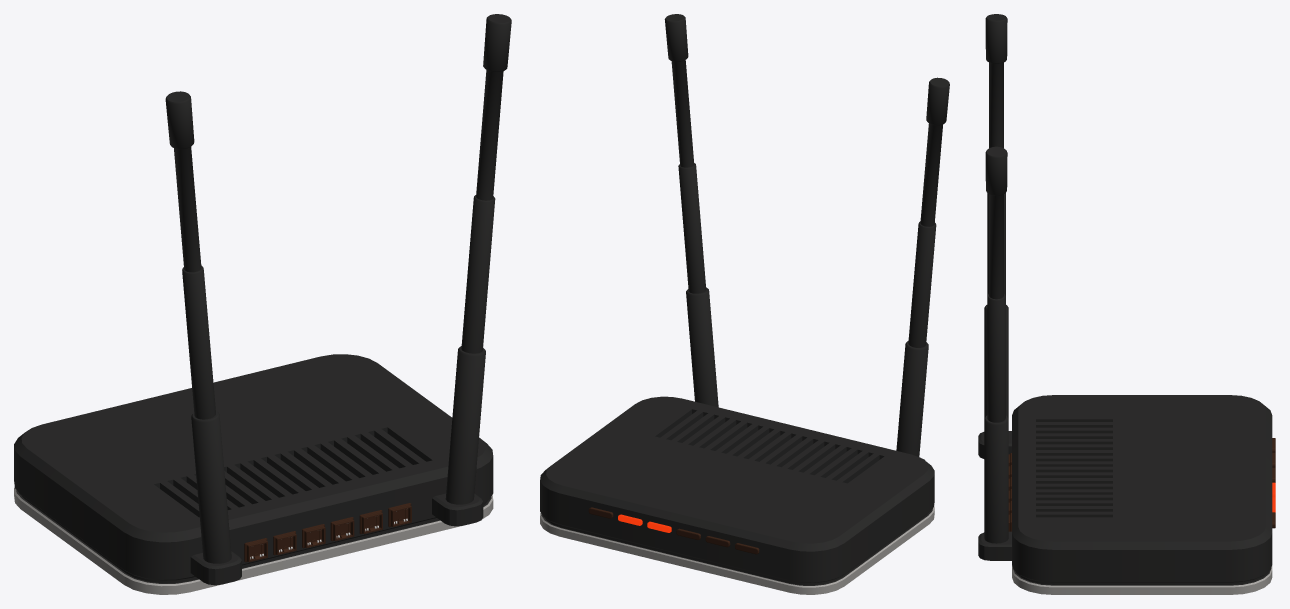
Rendered from Blender.gltf.
3 views of the same model, side by side, from view 1: azimuth 30°, elevation 25°; view 2: azimuth 150°, elevation 25°; view 3: azimuth 270°, elevation 25° (orthographic). The views are drawn at different scales.
Parts seen in each view (by area): view 1: Куб.020; view 2: Куб.020; view 3: Куб.020.
Boxes of the visible parts, left/top/right/bottom form: Куб.020: left=14, top=14, right=511, bottom=594; Куб.020: left=540, top=14, right=949, bottom=594; Куб.020: left=978, top=14, right=1275, bottom=594.
Bounding box in the file's own units: 0.1379 × 0.1844 × 0.1141.
